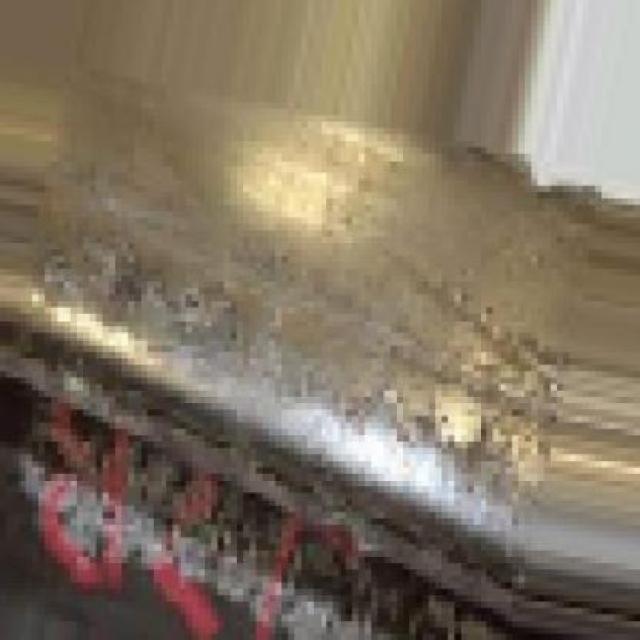defective: (7, 52, 640, 640)
